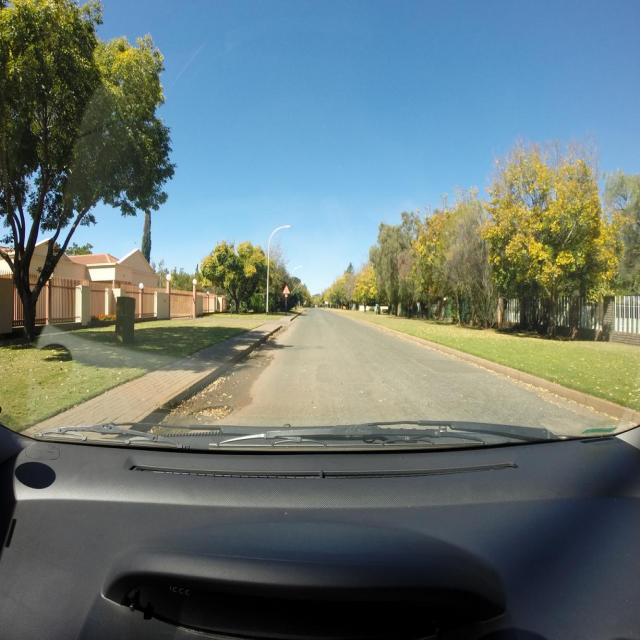Pothole: (188, 404, 234, 423)
